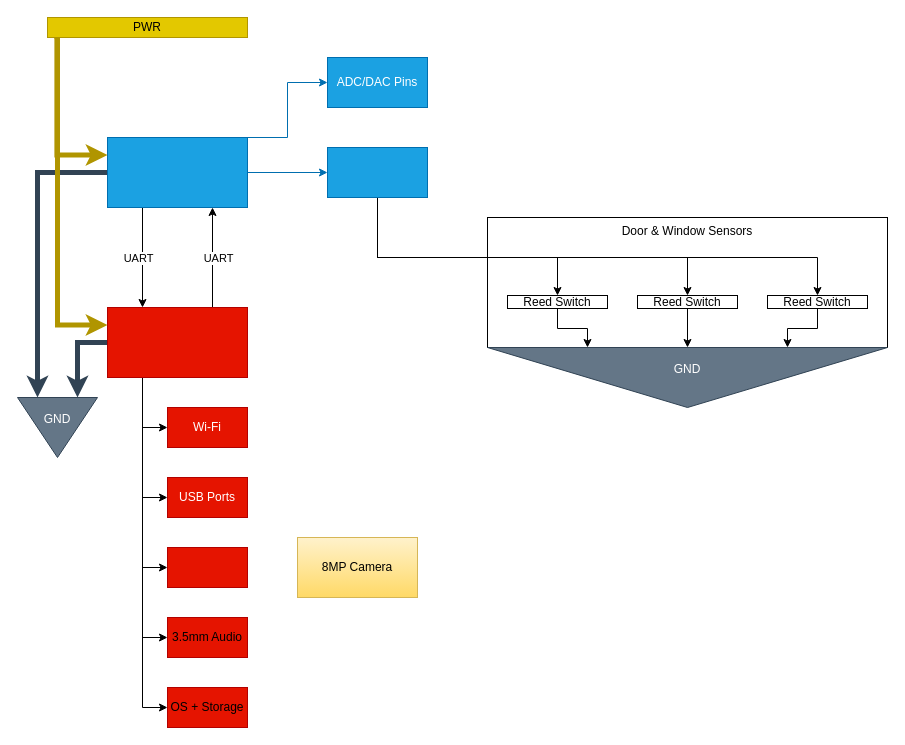
Image size: 905x745. Some labels were removed from this diagram. Each missing label, with the centre of its shape:
"CSI Camera Port" goes at point (207, 567).
"GPIO Pins" goes at point (377, 172).
"Raspberry Pi" goes at point (177, 342).
"STM32 Nucleo Board" goes at point (177, 172).
